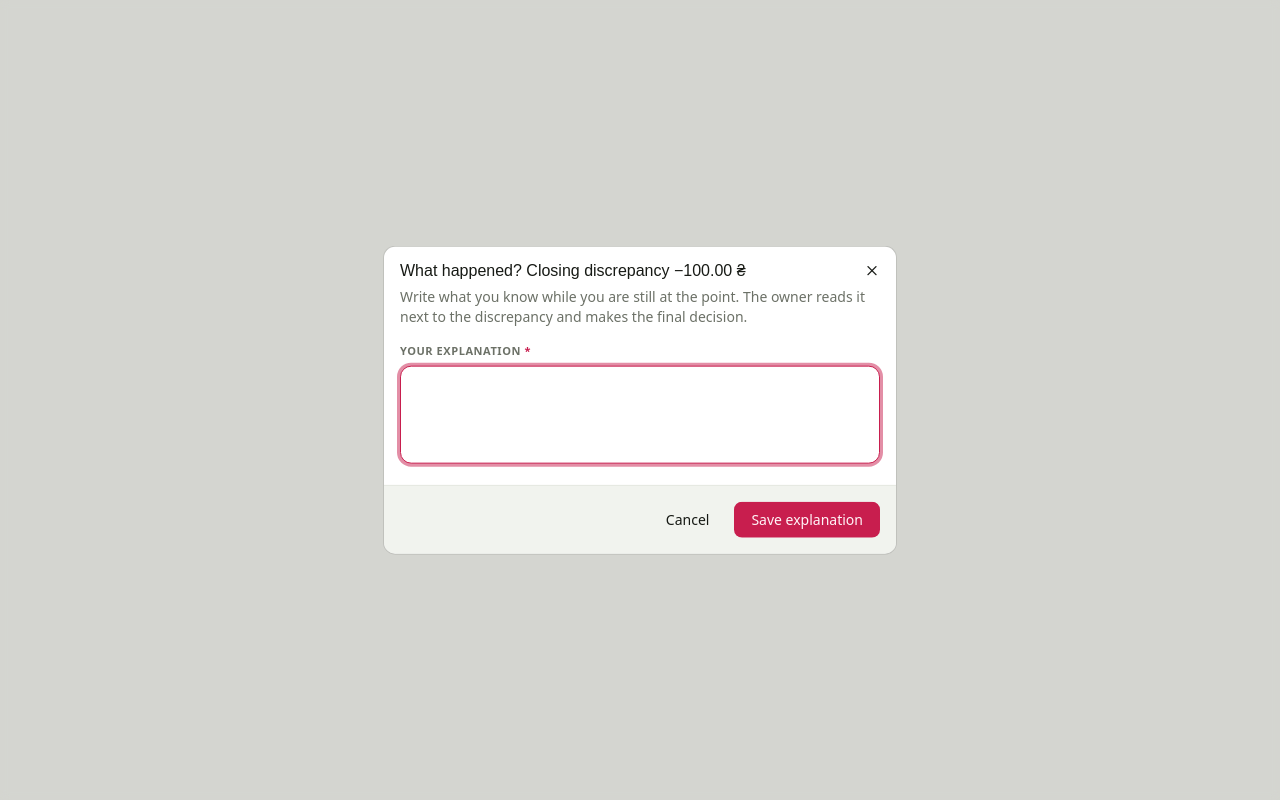
Test: OperatorNoteDialog › sends the trimmed note and closes
In the text box labelled "Your explanation": (640, 414) [400,365,880,463], type "  віддав решту "
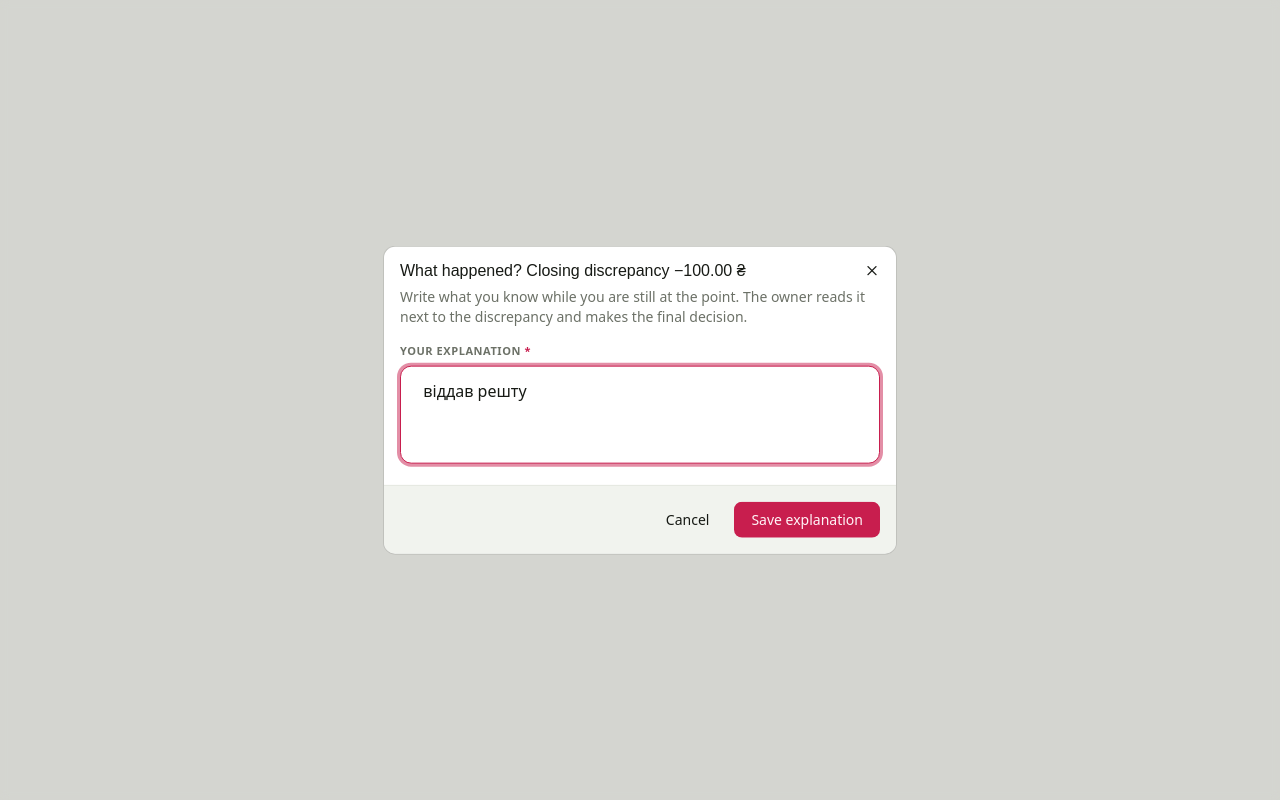
Click the button "Save explanation": (807, 519) [734,501,880,537]
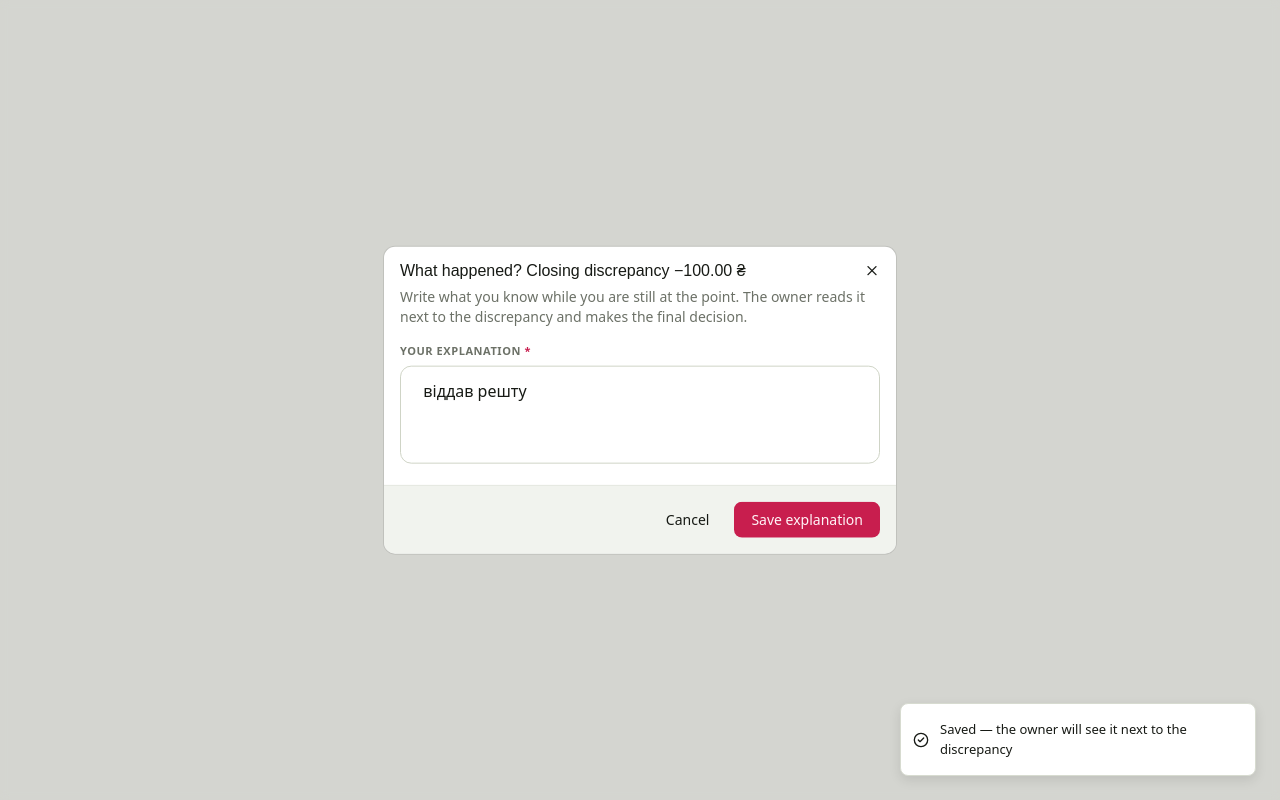
Result: the text "Saved — the owner will see it next to the discrepancy" is shown at [940,720,1187,758]
